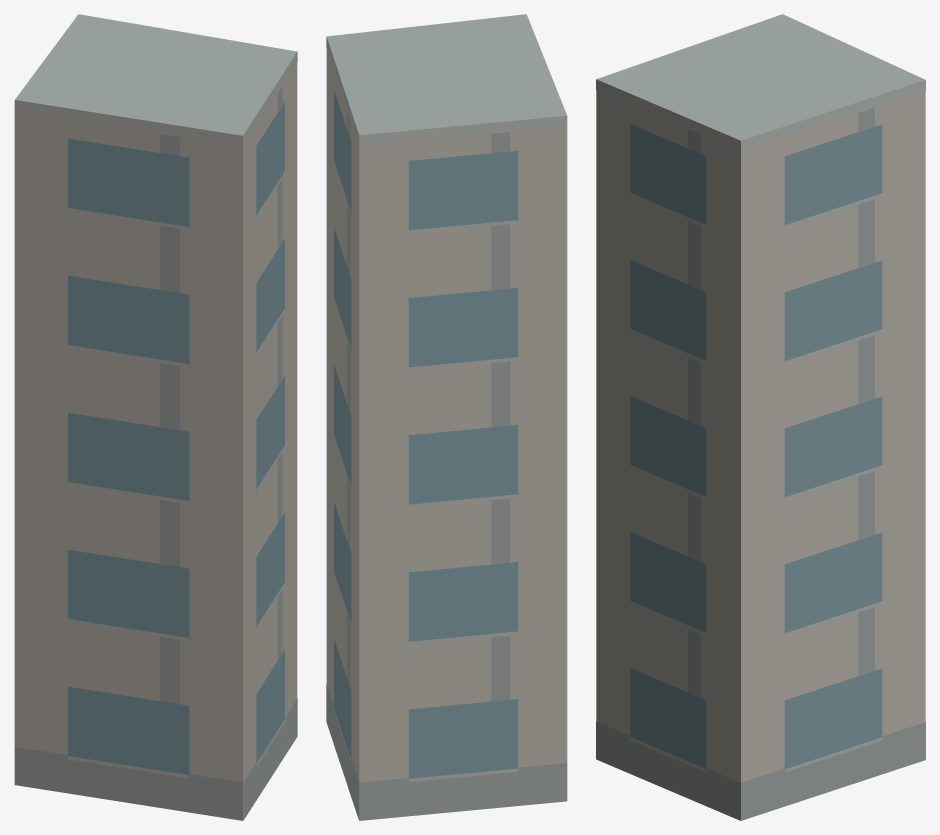
File: survey-upis-32771177.glb
3 views of the same model, side by side, from view 1: azimuth 30°, elevation 25°; view 2: azimuth 150°, elevation 25°; view 3: azimuth 270°, elevation 25° (orthographic).
Visible parts, largest first — view 1: survey-upis-32771177.tmp; view 2: survey-upis-32771177.tmp; view 3: survey-upis-32771177.tmp.
Part boxes in pixels (box(x1,y1,x2,y2)): survey-upis-32771177.tmp: box(14, 14, 297, 820); survey-upis-32771177.tmp: box(326, 14, 567, 820); survey-upis-32771177.tmp: box(596, 14, 925, 820).
Size of the model in its own units: 6.1 by 15.25 by 6.7.
